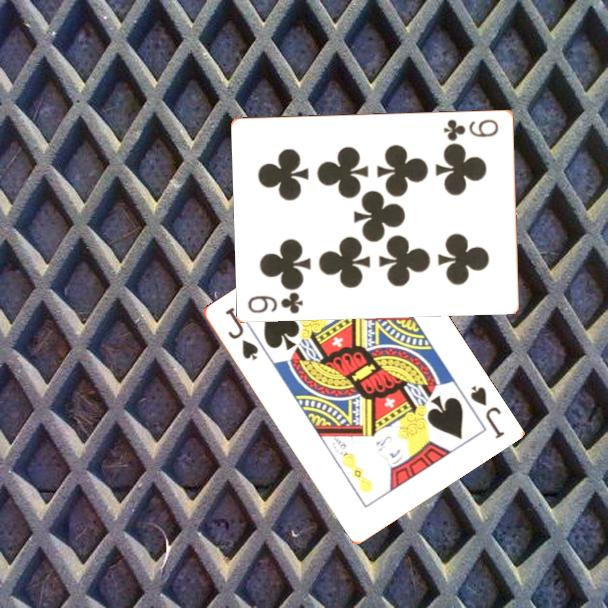c09: (245, 288, 306, 316), (441, 115, 501, 143)
s11: (466, 382, 507, 441), (221, 303, 261, 363)
